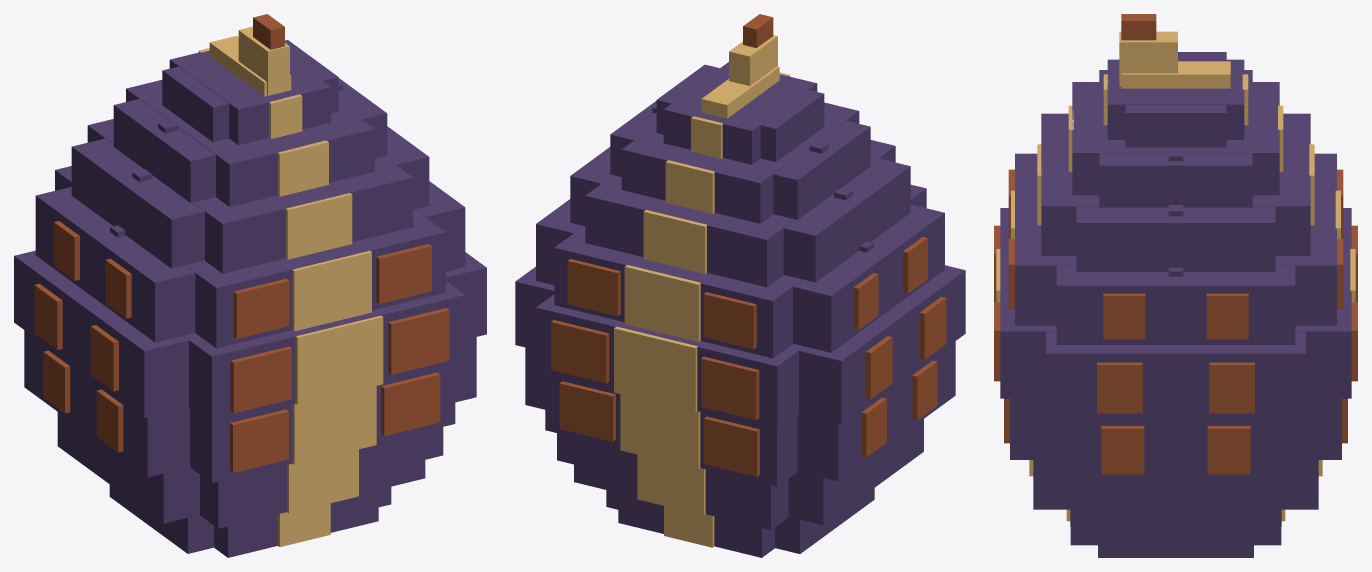
File: PteranodonEgg.fbx
The picture shows the model from 3 angles, left to right: view 1: azimuth 30°, elevation 25°; view 2: azimuth 150°, elevation 25°; view 3: azimuth 270°, elevation 25°; orthographic projection. The views are drawn at different scales.
Visible parts, largest first — view 1: ShellWide3, ShellWide4, ShellWide5, Shell5, Shell4, Shell6, Shell3, ShellWide2, ShellWide6, Shell1, ShellWide1, Belly3_1 (+27 smaller); view 2: ShellWide3, ShellWide4, ShellWide5, Shell5, Shell4, Shell6, Shell3, ShellWide2, ShellWide6, Shell1, Shell7, Belly3_-1 (+27 smaller); view 3: ShellWide3, ShellWide4, ShellWide5, Shell4, ShellWide2, ShellWide1, Shell5, Shell3, ShellWide6, Shell6, Shell2, ShellWide0 (+17 smaller).
Boxes of the visible parts, x1,y1,x2,y2 form: ShellWide3: (14,250,486,417); ShellWide4: (35,181,465,342); ShellWide5: (71,126,429,268); Shell5: (87,119,413,273); Shell4: (55,166,445,348); Shell6: (126,80,374,206); Shell3: (183,281,465,423); ShellWide2: (24,330,476,477); ShellWide6: (113,78,387,202); Shell1: (200,431,425,528); ShellWide1: (57,412,443,523); Belly3_1: (295,315,383,404); ShellWide3: (515,265,965,424); ShellWide4: (536,199,944,352); ShellWide5: (570,147,910,282); Shell5: (585,140,895,287); Shell4: (554,184,926,358); Shell6: (621,102,859,223); Shell3: (536,294,804,430); ShellWide2: (525,341,955,481); ShellWide6: (610,101,870,219); Shell1: (574,437,788,529); Shell7: (663,62,817,164); Belly3_-1: (614,326,697,412); ShellWide3: (1046,332,1305,419); ShellWide4: (1056,266,1295,344); ShellWide5: (1076,206,1275,271); Shell4: (1015,153,1336,325); ShellWide2: (1053,420,1298,480); ShellWide1: (1070,480,1281,526); Shell5: (1041,113,1310,255); Shell3: (1000,208,1351,398); ShellWide6: (1099,70,1252,207); Shell6: (1072,82,1279,195); Shell2: (1010,398,1341,459); ShellWide0: (1098,527,1253,557).
Bounding box in the file's own units: 208 × 278 × 186.
